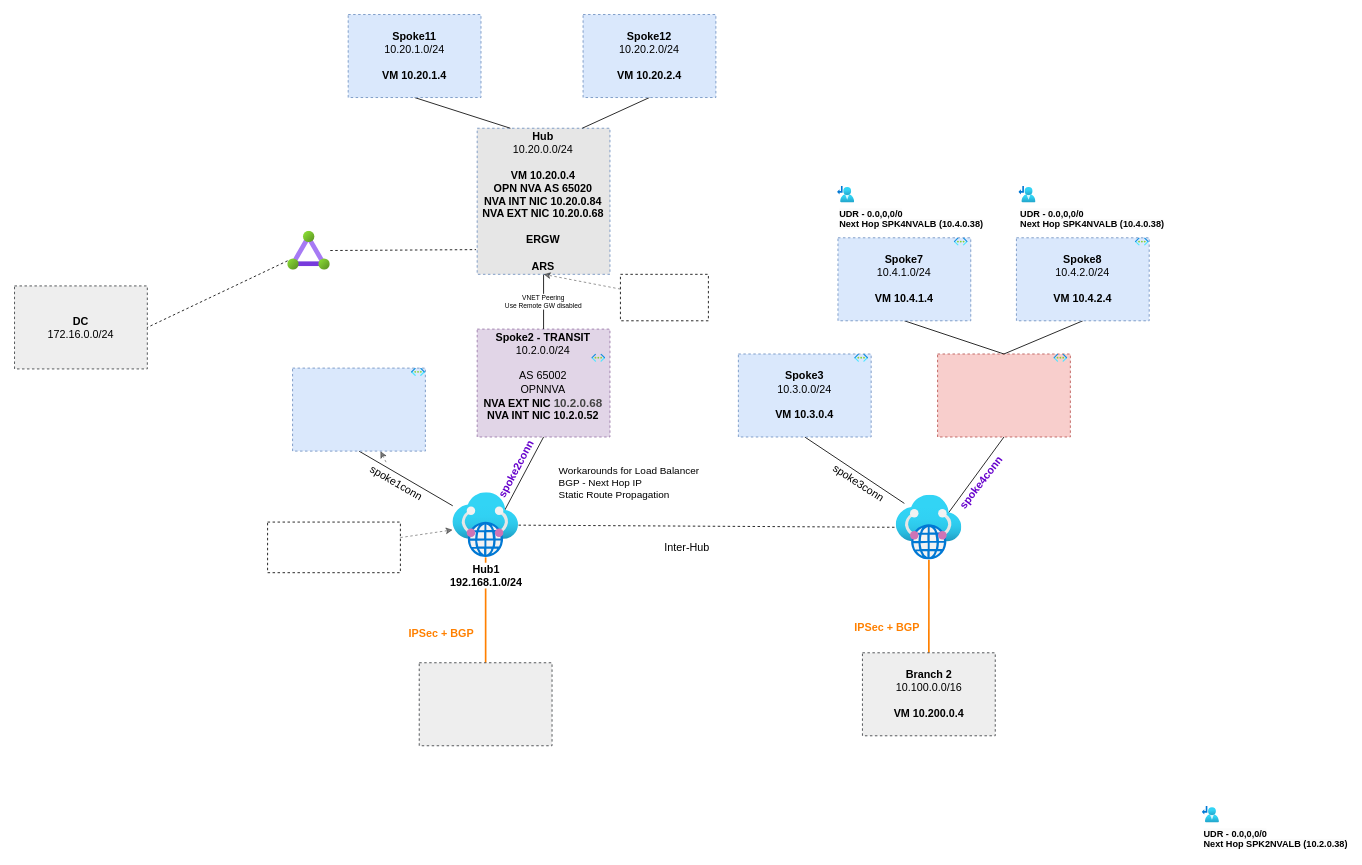
This 1362x865 diagram has some shape labels left out. The shapes that lost their labels are listed below. From the top down, each one's centre as x and y in pixels, then its label:
the point at 664,297: ARS (AS 65515) 10.20.0.132 10.20.0.133
the point at 358,409: Spoke1 10.1.0.0/24 VM 10.1.0.4
the point at 1003,395: Spoke4 10.4.0.0/24 SPK4NVALB 10.4.0.38
the point at 333,547: Virtual Router (AS 65515) 192.168.1.68 192.168.1.69
the point at 928,527: Hub2 192.168.2.0/24
the point at 485,704: Branch 1 10.100.0.0/16 VM 10.100.0.4
